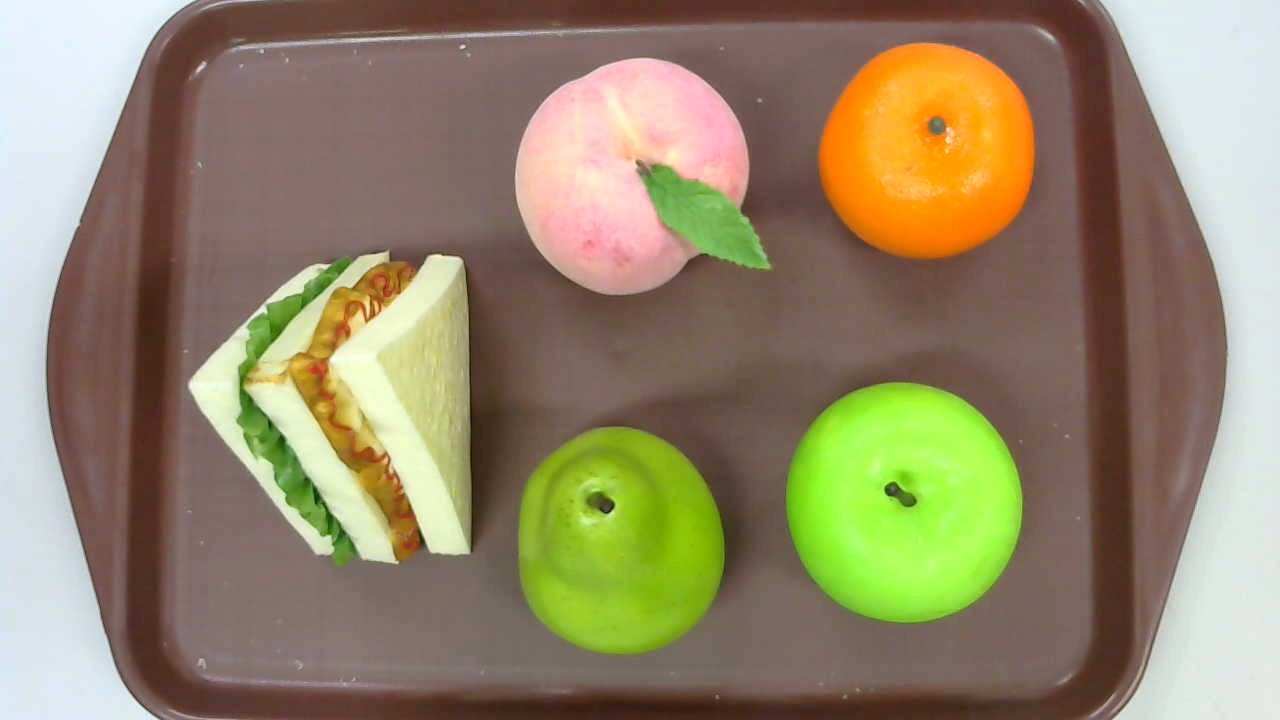green apple: (785, 381, 1024, 624)
green pear: (518, 426, 724, 653)
orange: (816, 42, 1035, 259)
peach: (515, 57, 773, 298)
sandwich: (187, 250, 472, 565)
